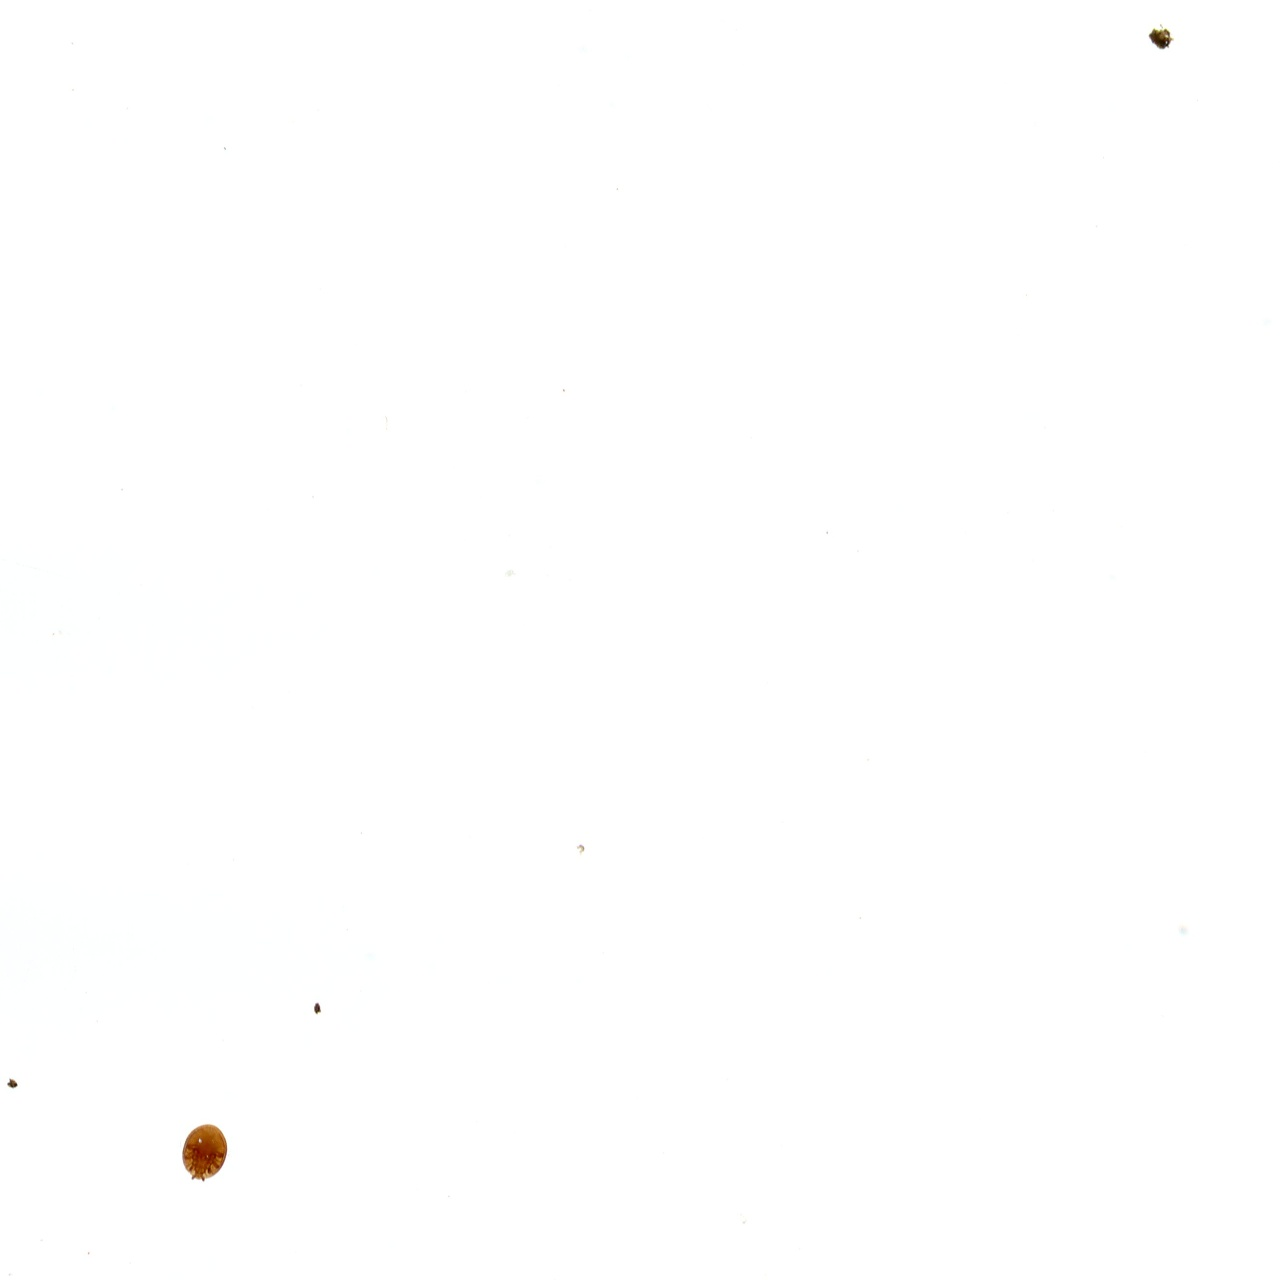arthropod: (181, 1122, 232, 1185)
